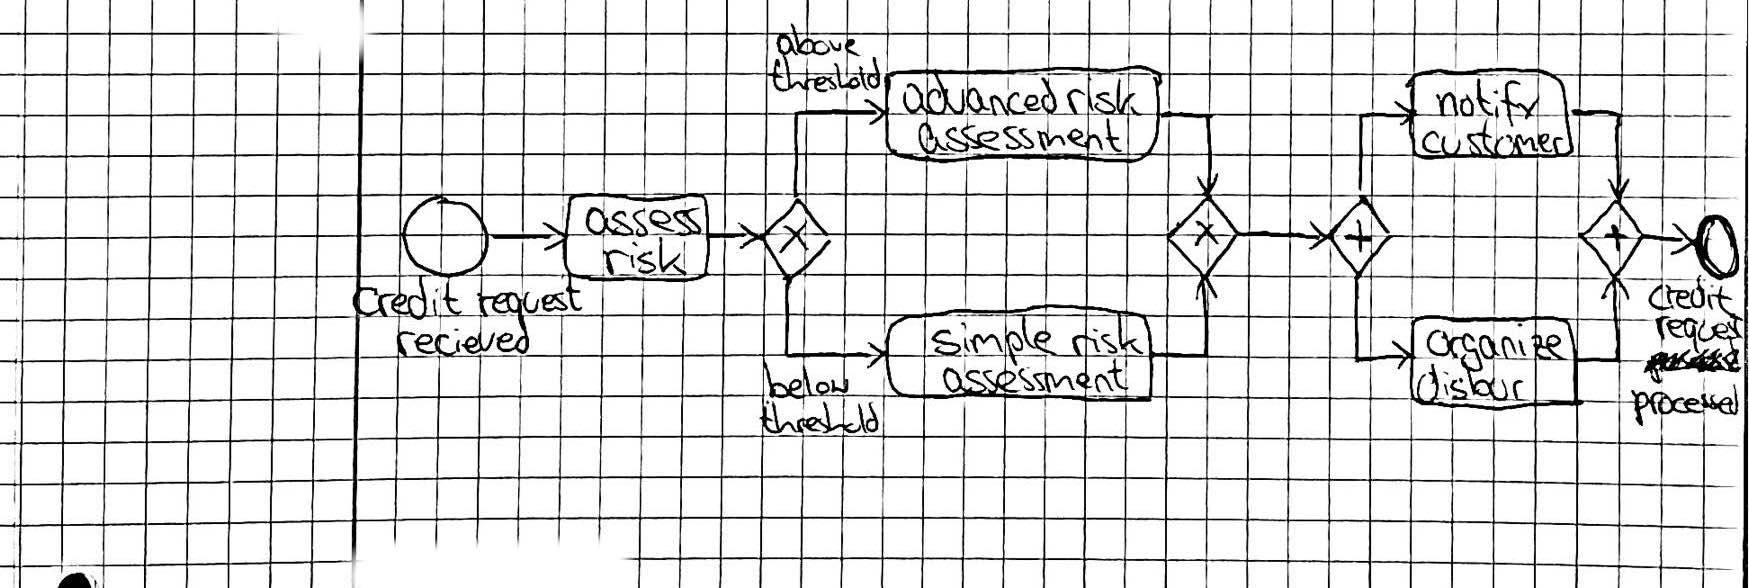above: (773, 19, 864, 61)
advanced: (899, 69, 1063, 121)
assess: (579, 202, 706, 242)
assessment: (937, 355, 1132, 401), (914, 116, 1127, 157)
below: (760, 359, 853, 404)
credit: (348, 273, 466, 321), (1644, 271, 1745, 322)
customer: (1417, 114, 1571, 162)
disbur: (1408, 358, 1530, 409)
notify: (1431, 76, 1545, 129)
organize: (1422, 318, 1568, 377)
processed: (1627, 380, 1741, 430)
recieved: (392, 314, 533, 363)
request: (473, 270, 586, 329), (1650, 314, 1748, 358)
risk: (1067, 308, 1149, 363), (599, 234, 690, 279), (1063, 74, 1146, 121)
simple: (927, 312, 1062, 369)
threshold: (756, 398, 885, 438), (766, 54, 886, 96)
